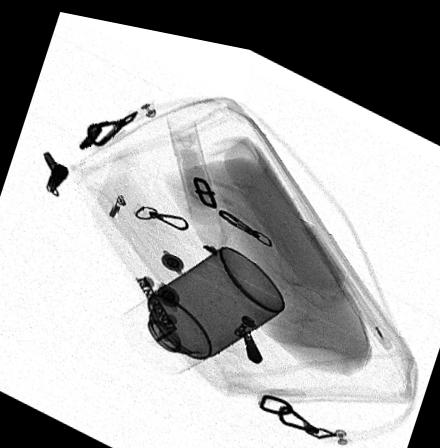Sprayer: (119, 236, 283, 366)
